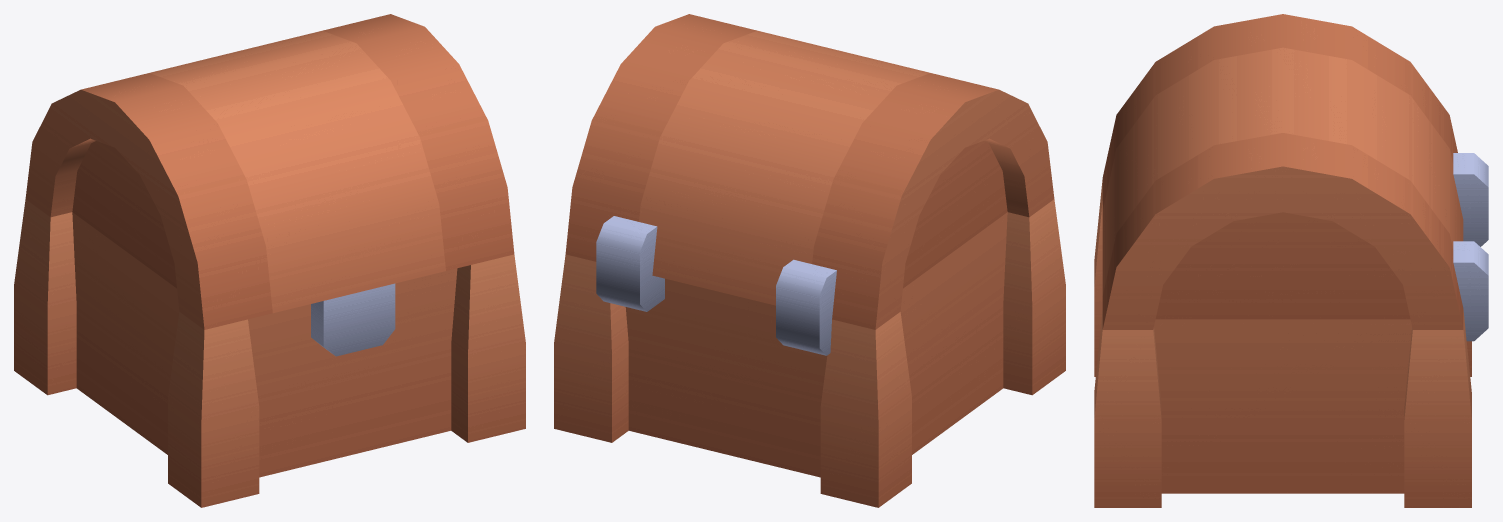
The model's file is f_chest.glb.
3 renders of one model, left to right at view 1: azimuth 30°, elevation 25°; view 2: azimuth 150°, elevation 25°; view 3: azimuth 270°, elevation 25°, orthographic.
Parts seen in each view (by area): view 1: lid, f_chest; view 2: lid, f_chest; view 3: lid, f_chest.
Boxes of the visible parts, x1=… form: lid: x1=25, y1=14, x2=514, y2=356; f_chest: x1=14, y1=199, x2=525, y2=507; lid: x1=565, y1=14, x2=1054, y2=329; f_chest: x1=554, y1=199, x2=1065, y2=507; lid: x1=1102, y1=14, x2=1463, y2=329; f_chest: x1=1094, y1=153, x2=1488, y2=507.
Size of the model in its own units: 0.8615 by 0.8509 by 0.9.
1 material, 1 textured.
